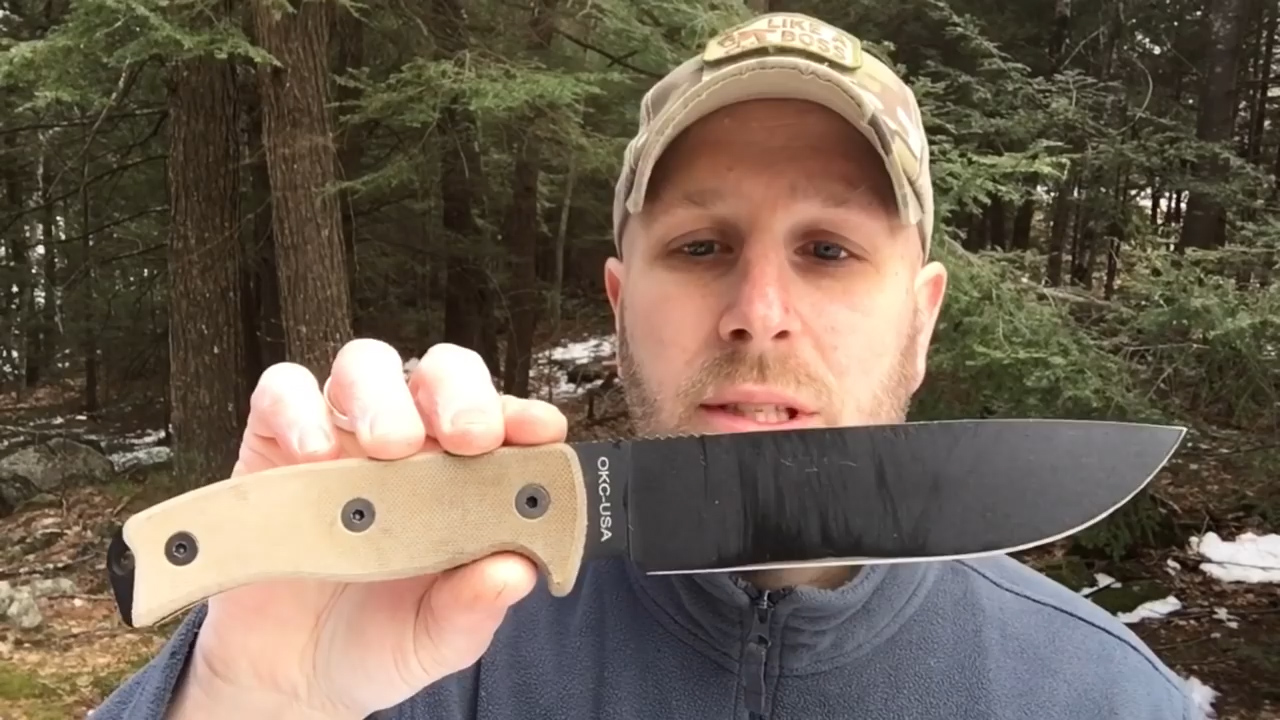knife: (326, 333, 1202, 616)
